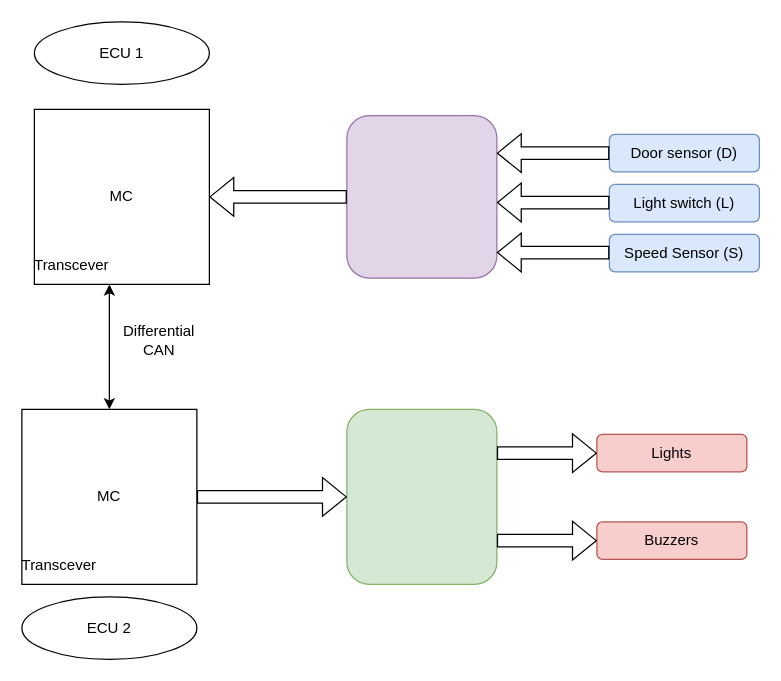
Image size: 781x681. Some labels were removed from this diagram. Each missing label, with the centre of its shape:
Inputs: (421,196)
Outputs: (421,496)
